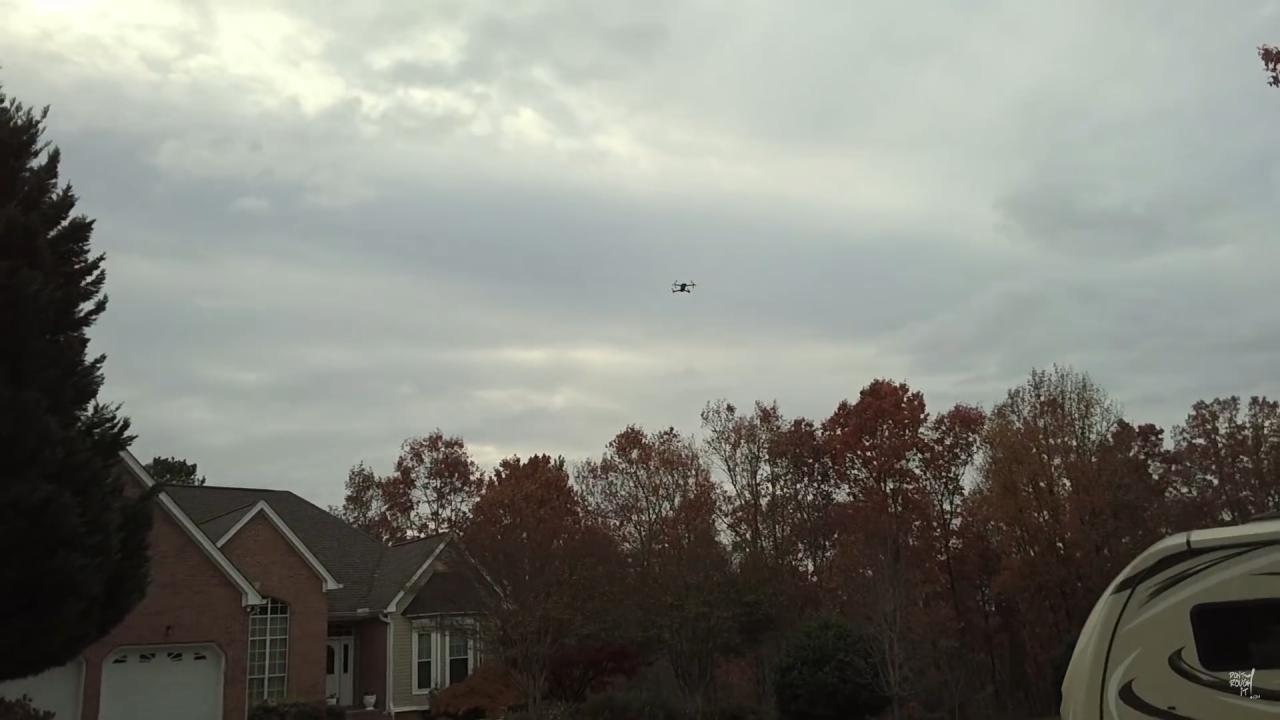Drone: (670, 278, 698, 296)
